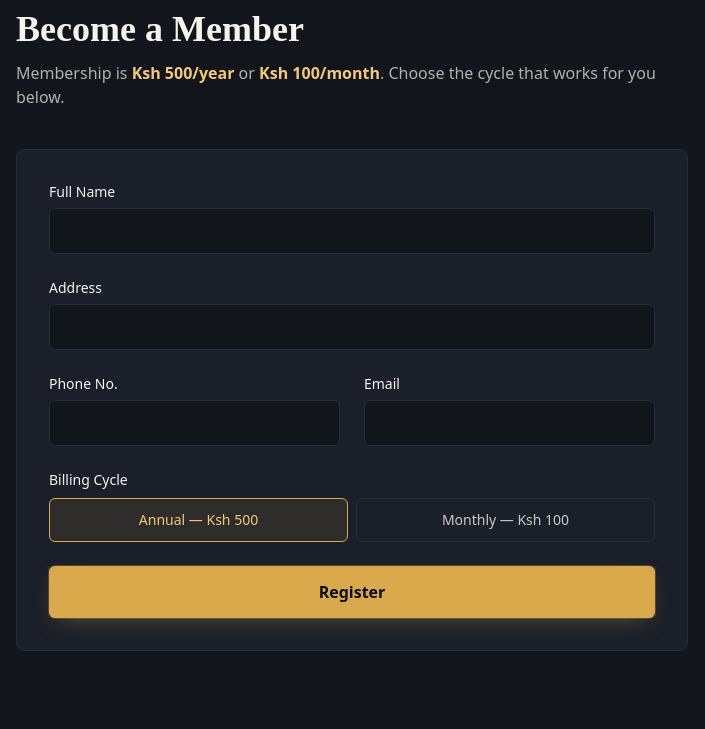
Test case: MembershipRegistrationForm › shows an error banner instead of a fake success screen when the request fails
Type "Samwel Kaaleng" into the field labelled "Full Name" at x=352, y=231, box x1=49 y1=208 x2=655 y2=254
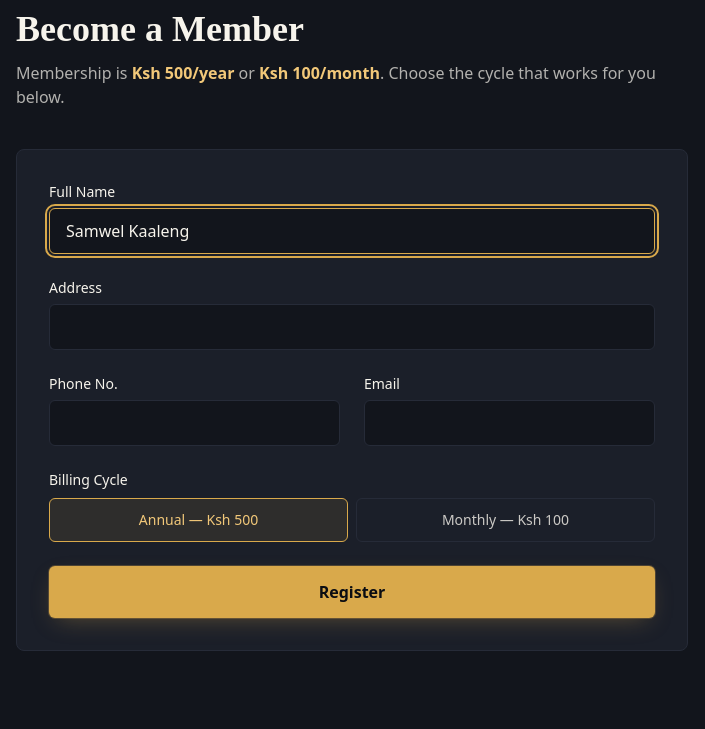
Type "P.O. Box 123, Lodwar, Turkana" into the field labelled "Address" at x=352, y=327, box x1=49 y1=304 x2=655 y2=350
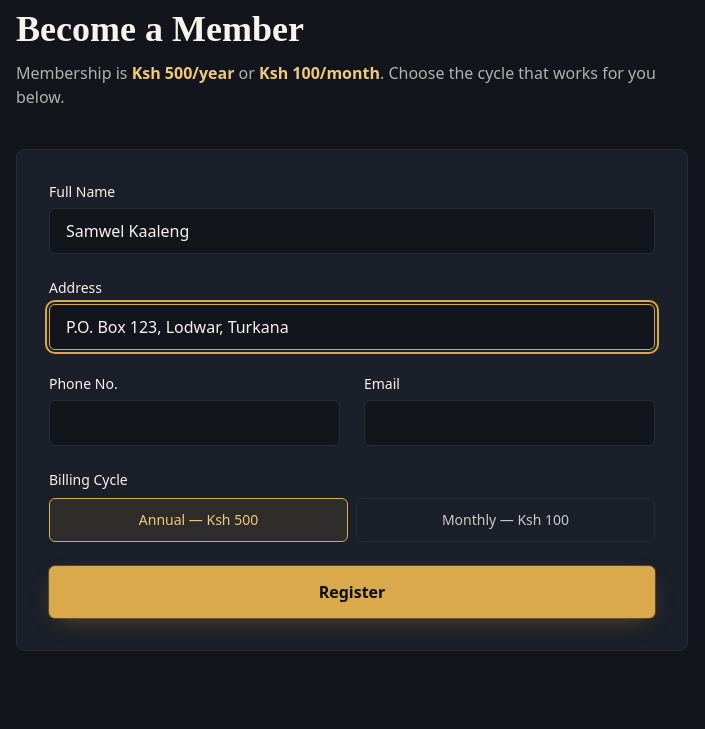
Type "0798765432" into the field labelled "Phone No." at x=194, y=423, box x1=49 y1=400 x2=340 y2=446
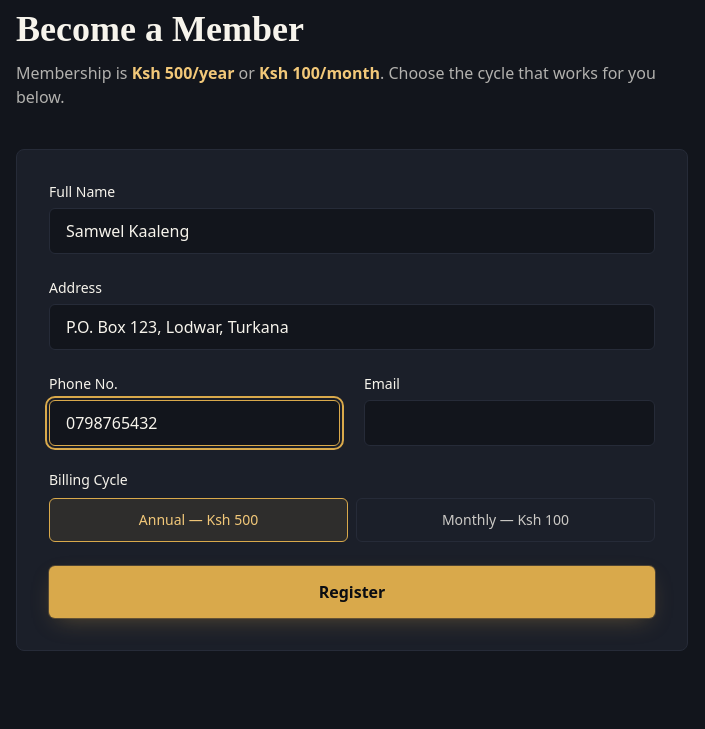
Type "samwel@example.com" into the field labelled "Email" at x=510, y=423, box x1=364 y1=400 x2=655 y2=446
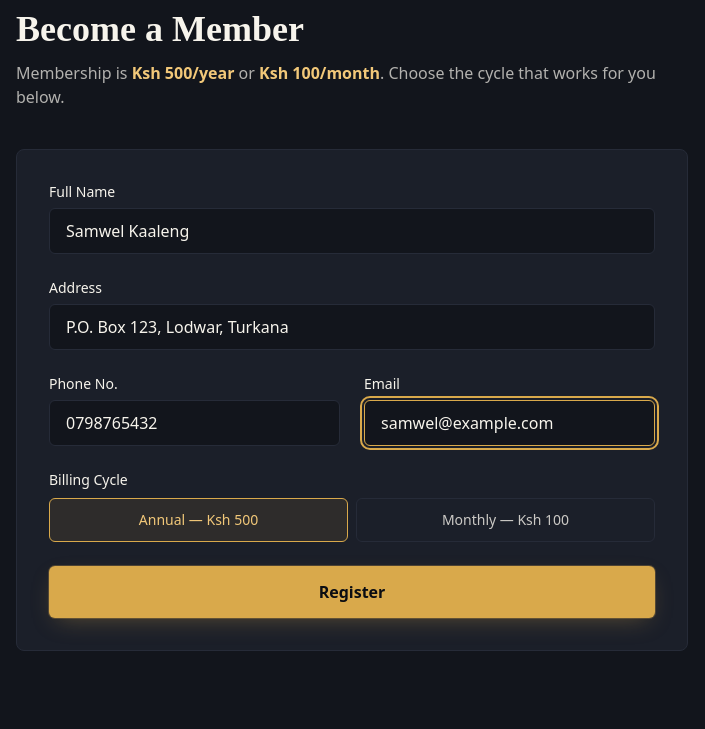
Click the button "Register" at x=352, y=592, box x1=49 y1=566 x2=655 y2=618
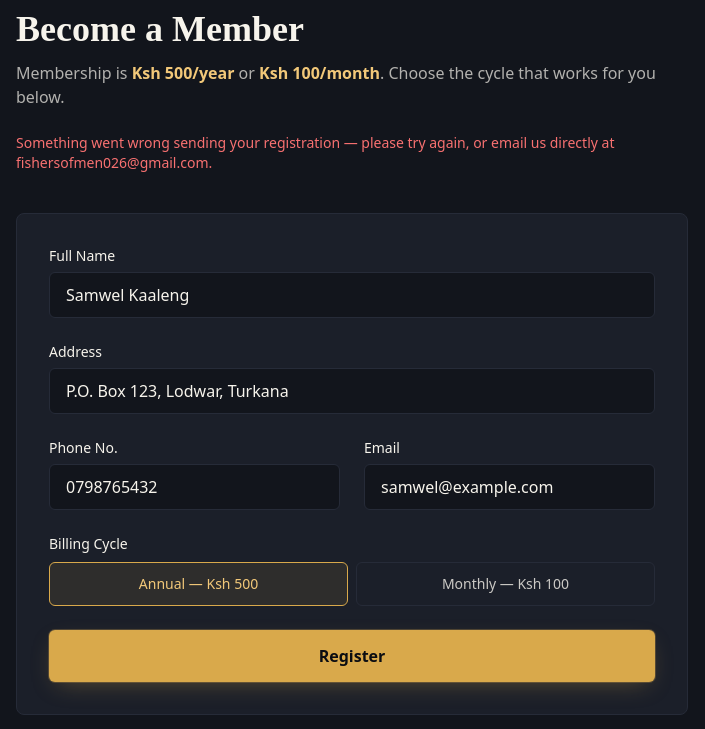
Check: the message shows "Something went wrong", box x1=16 y1=133 x2=614 y2=172
